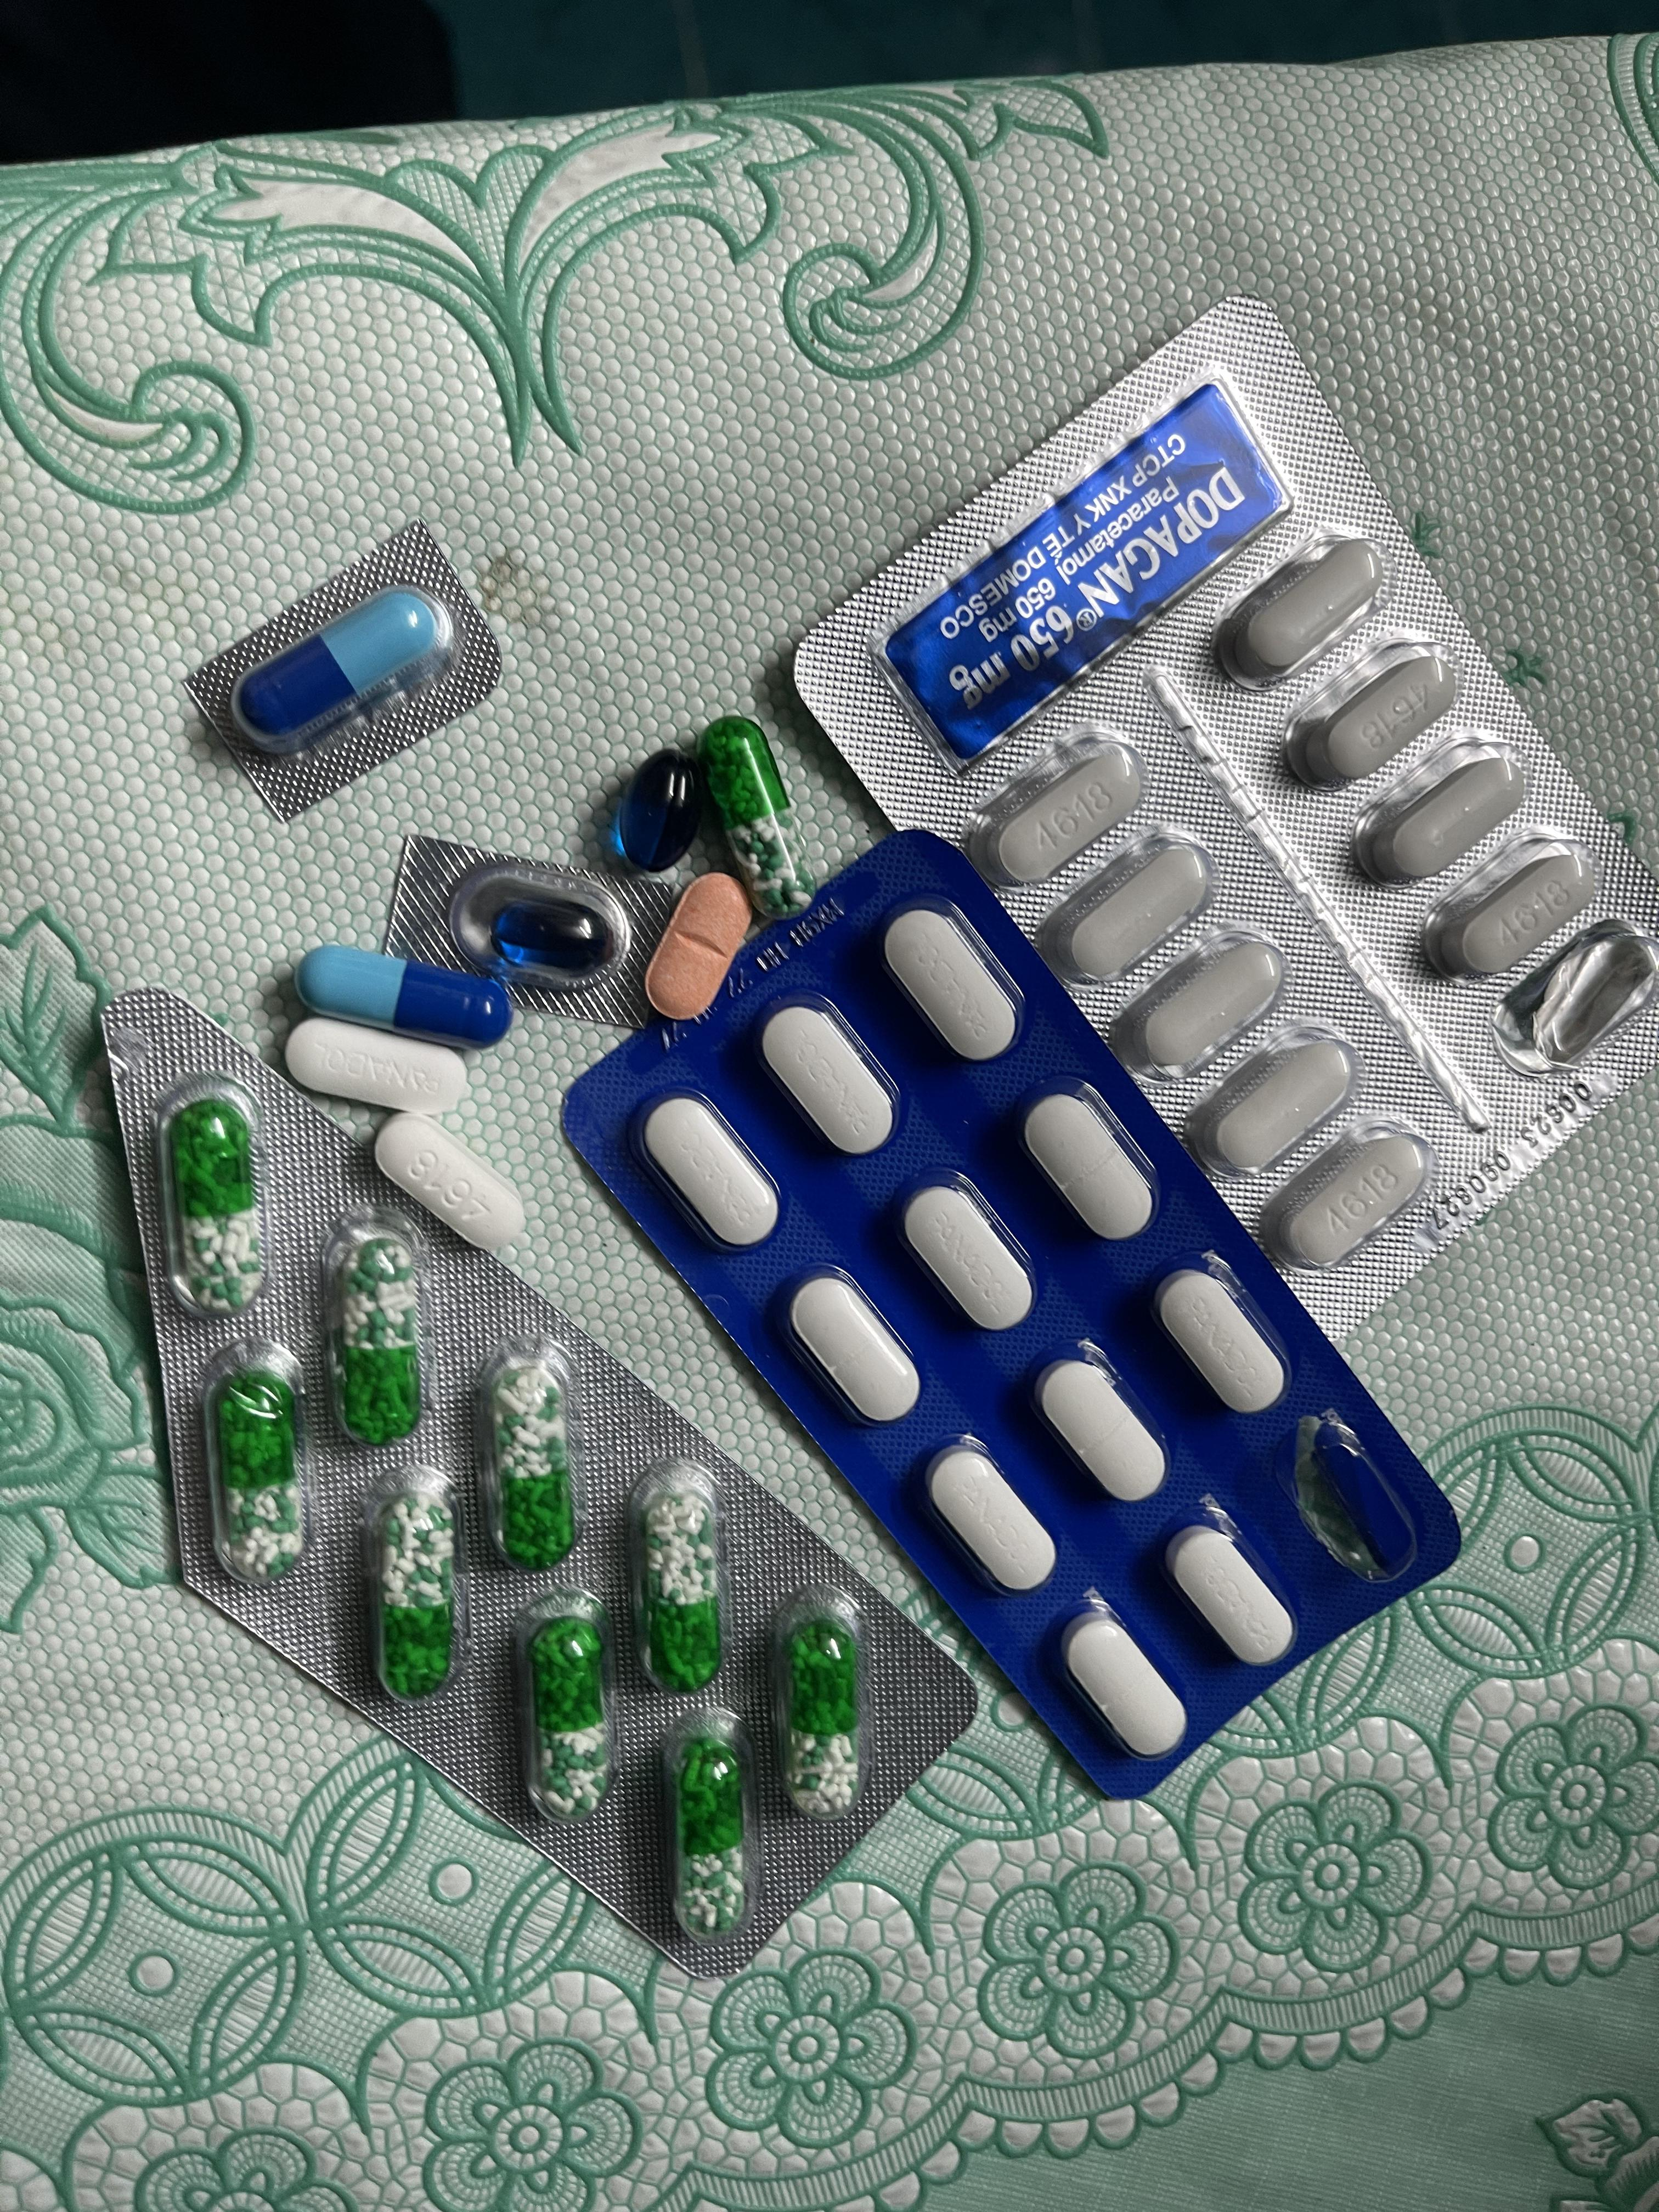Lincomyxin_500mg: (612, 751, 708, 874), (488, 902, 606, 972)
Loratadine_10mg: (645, 873, 755, 1017)
Paracetamol_350mg: (634, 1094, 781, 1251), (878, 907, 1019, 1069), (781, 1273, 924, 1430), (1051, 1597, 1183, 1764), (920, 1440, 1058, 1597), (758, 1003, 892, 1162), (1019, 1089, 1162, 1237), (1154, 1264, 1291, 1418), (901, 1177, 1040, 1327), (1026, 1348, 1164, 1500), (1166, 1522, 1297, 1669), (288, 1021, 477, 1115)
Paracetamol_500mg: (1037, 824, 1216, 988), (1209, 528, 1389, 690), (1417, 827, 1600, 982), (1281, 637, 1462, 792), (1107, 921, 1284, 1078), (1256, 1109, 1436, 1258), (1187, 1029, 1361, 1179), (375, 1113, 526, 1247), (993, 745, 1138, 880), (1378, 756, 1532, 881)
Paracetamol_650mg: (324, 1221, 427, 1439), (631, 1465, 728, 1686), (701, 723, 807, 916), (216, 1374, 303, 1583), (173, 1103, 261, 1306), (380, 1489, 458, 1700), (491, 1367, 572, 1564), (530, 1618, 608, 1818), (784, 1622, 861, 1818), (674, 1740, 746, 1937)
pill: (228, 587, 453, 758), (296, 946, 507, 1049)
